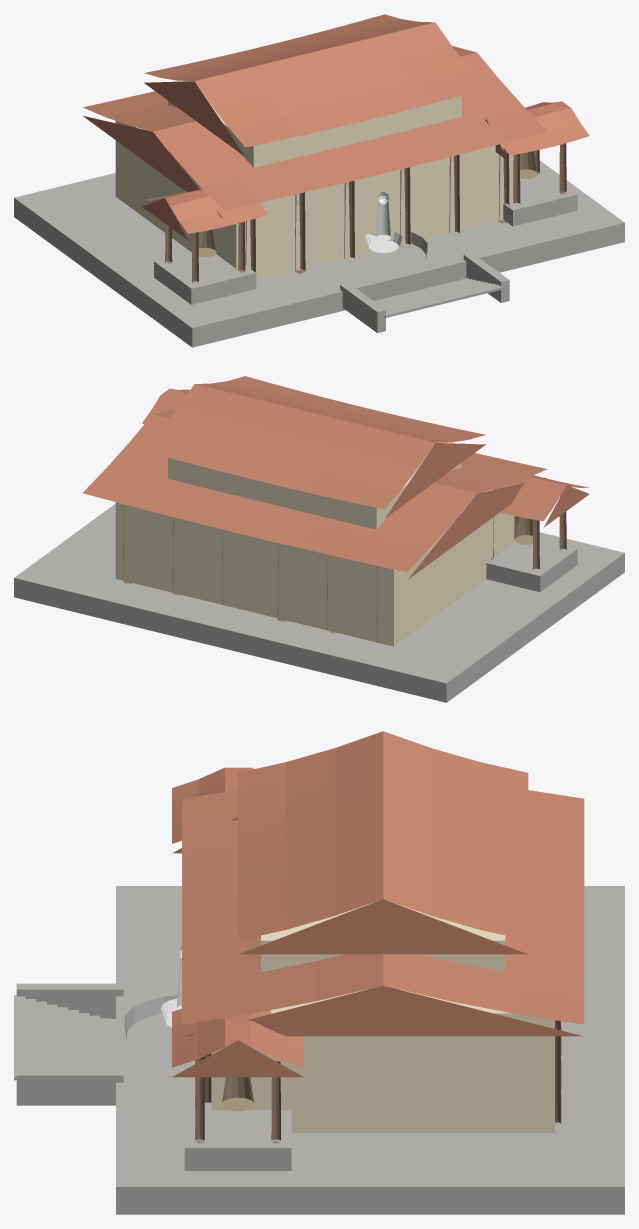
The model's file is lm_72_chua_linh_son_1938_doi_nguyen_van_troi.glb.
3 renders of one model, top to bottom at view 1: azimuth 30°, elevation 25°; view 2: azimuth 150°, elevation 25°; view 3: azimuth 270°, elevation 25°, orthographic. The views are drawn at different scales.
Parts seen in each view (by area): view 1: lm_72_chua_linh_son_1938_doi_nguyen_van_troi; view 2: lm_72_chua_linh_son_1938_doi_nguyen_van_troi; view 3: lm_72_chua_linh_son_1938_doi_nguyen_van_troi.
Boxes of the visible parts, bbox=[...] form: lm_72_chua_linh_son_1938_doi_nguyen_van_troi: bbox=[14, 14, 624, 347]; lm_72_chua_linh_son_1938_doi_nguyen_van_troi: bbox=[14, 376, 624, 702]; lm_72_chua_linh_son_1938_doi_nguyen_van_troi: bbox=[14, 731, 624, 1214].
Bounding box in the file's own units: 28 × 10.81 × 24.01.
